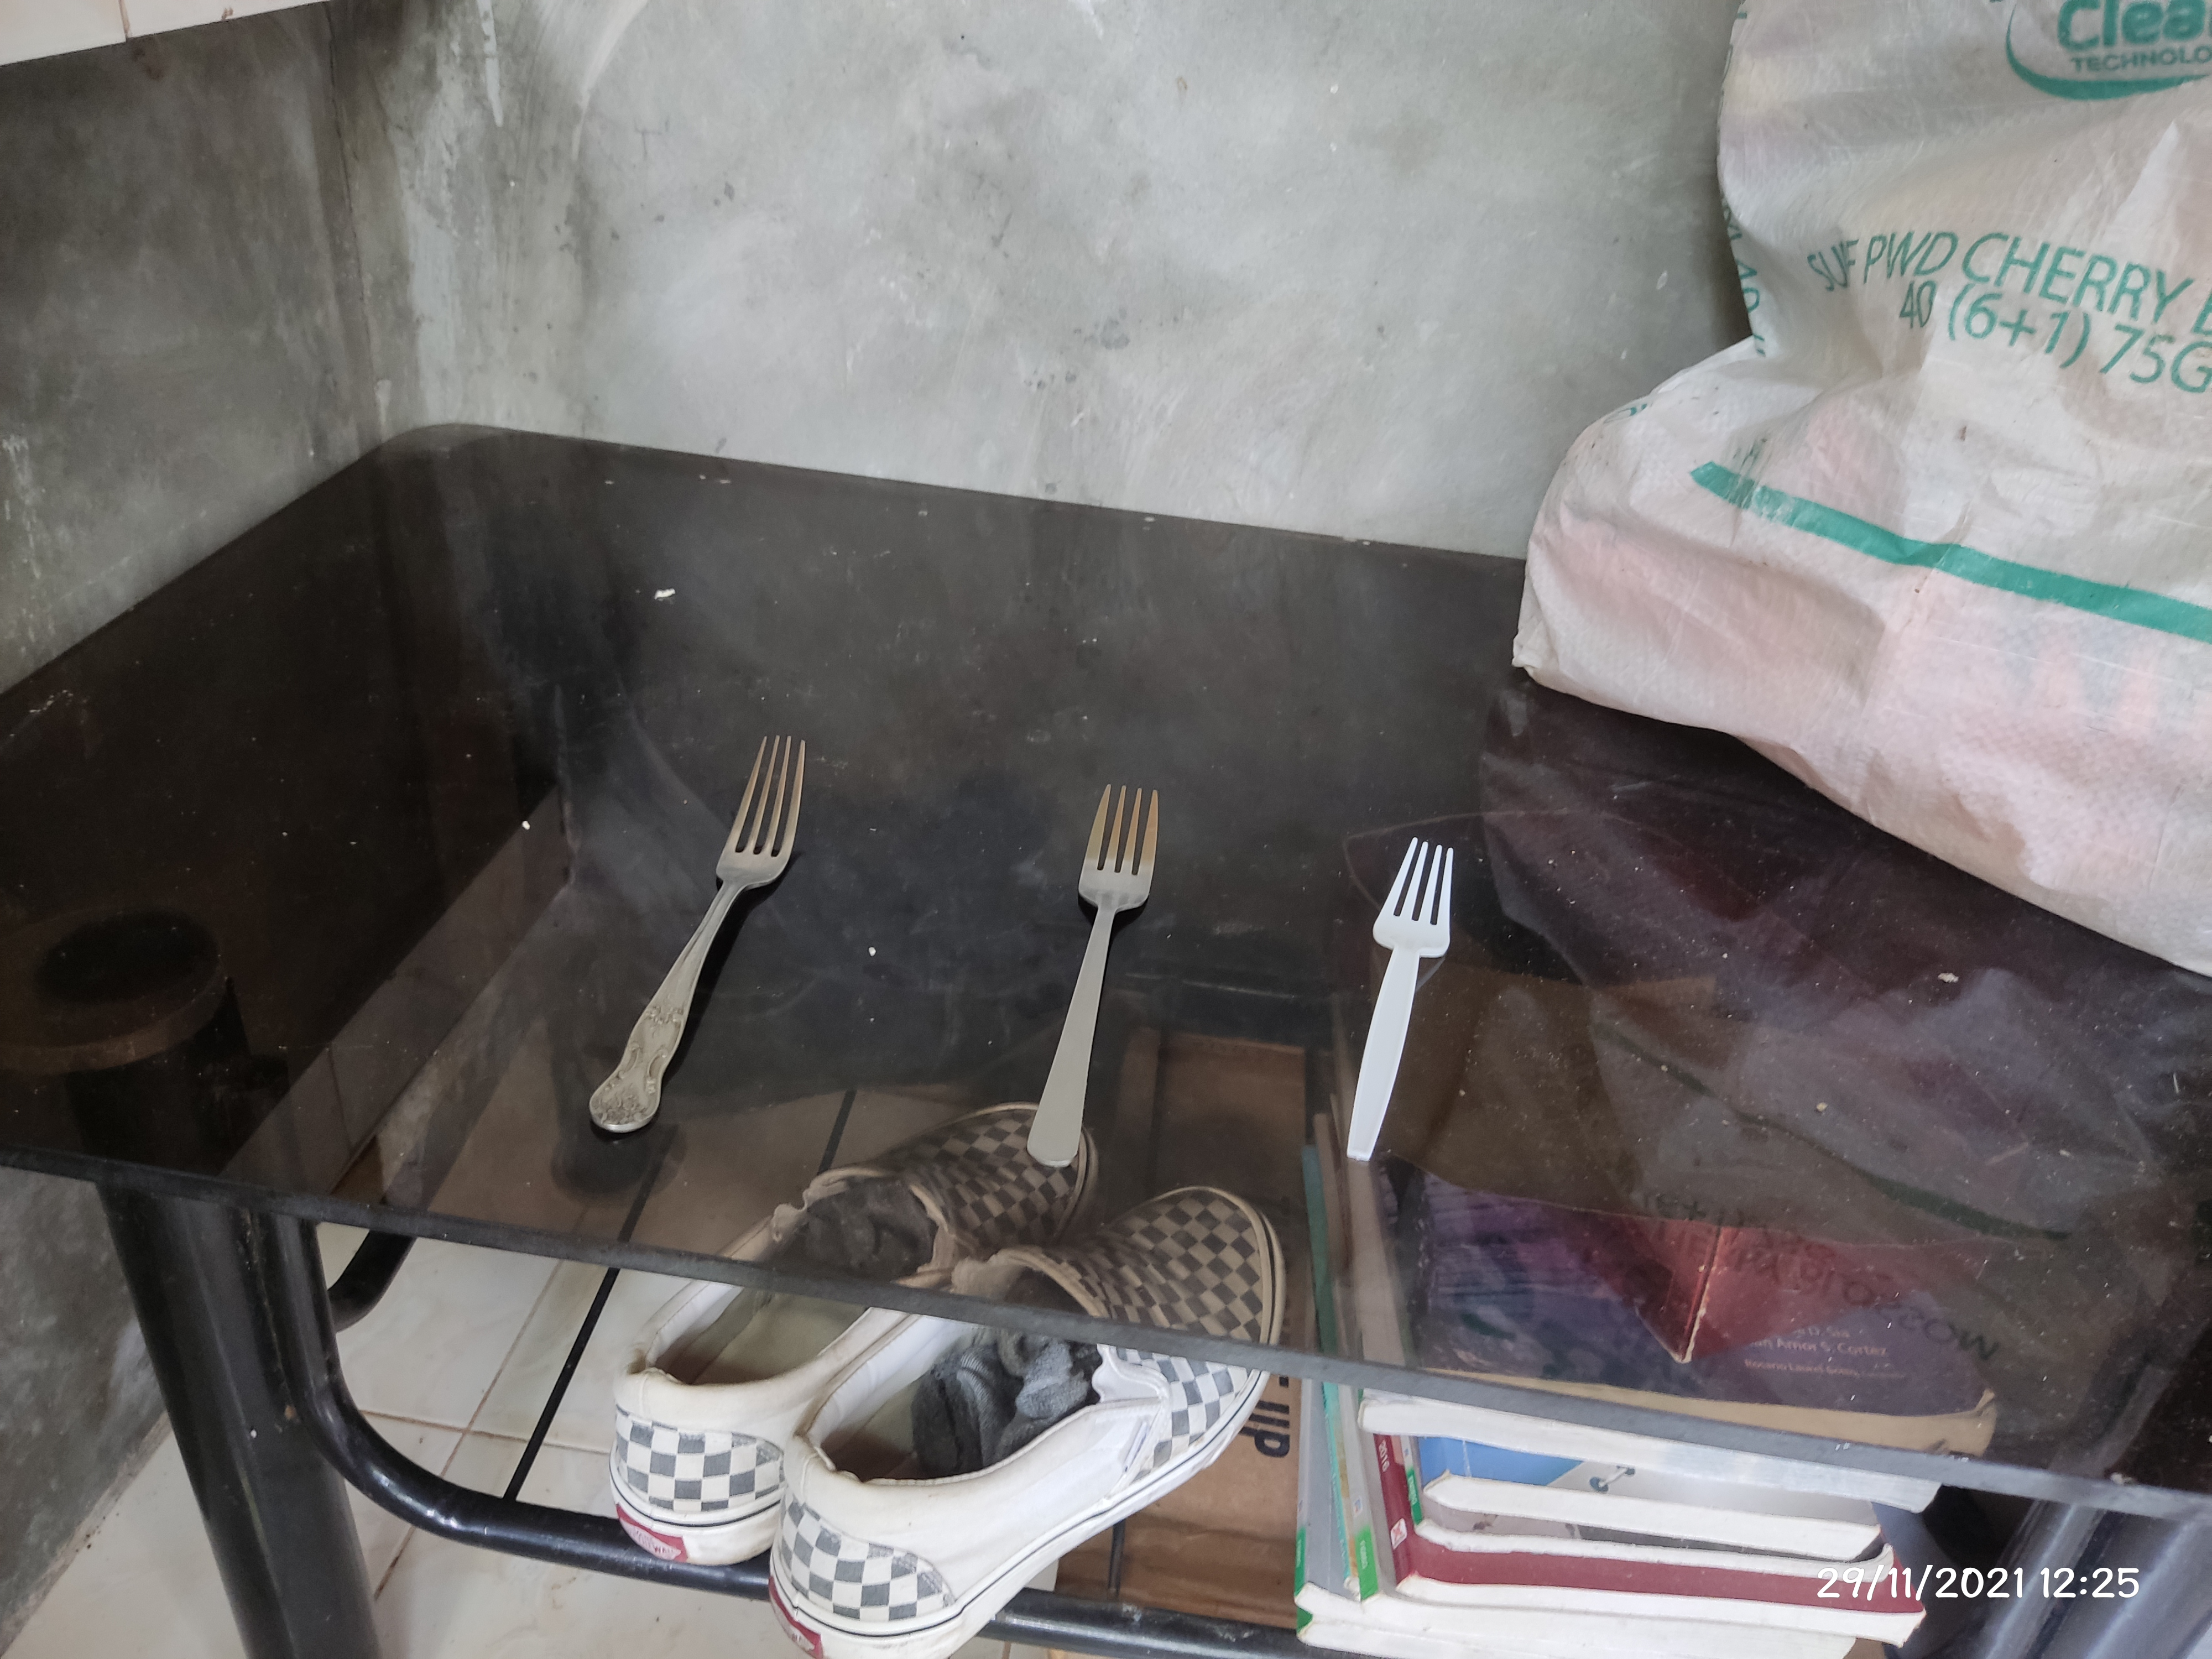fork: (589, 723, 808, 1136), (1017, 786, 1163, 1166), (1348, 830, 1458, 1162)
